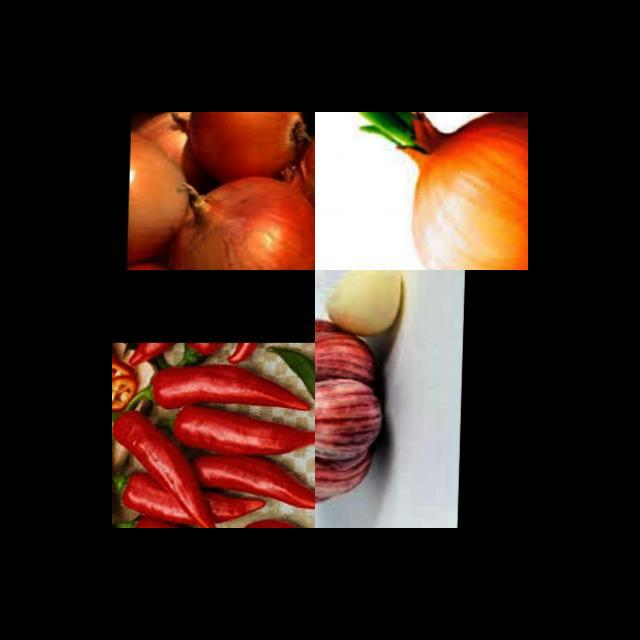garlic: (315, 312, 391, 503), (317, 270, 407, 343)
onion: (315, 112, 528, 270), (123, 112, 315, 270)
